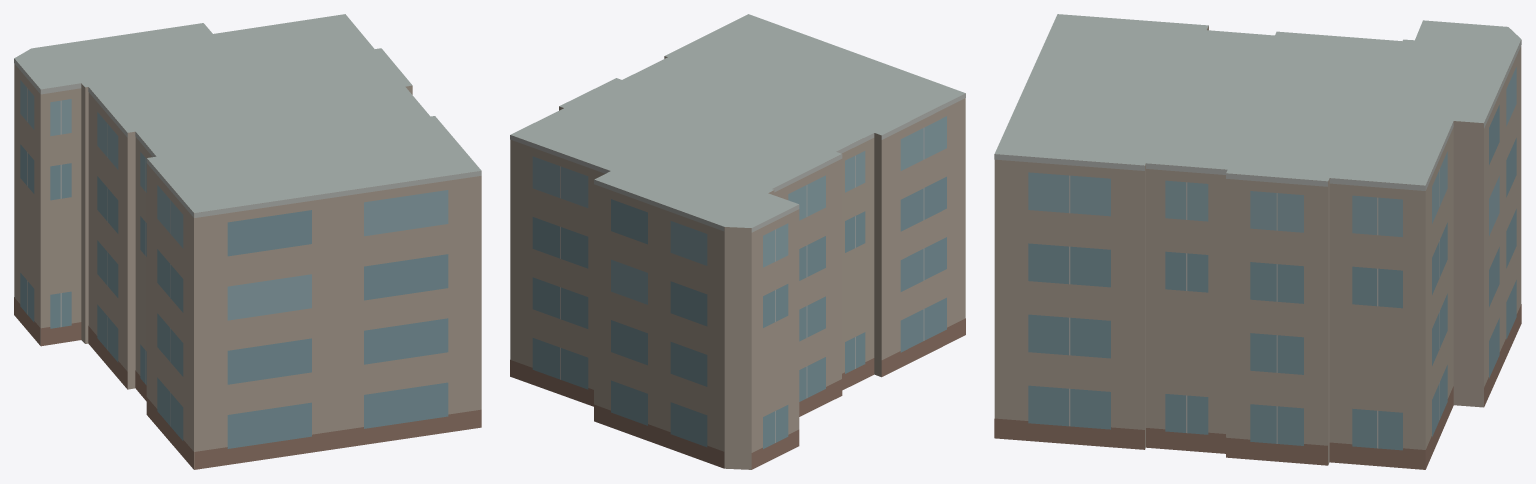
Rendered from survey-upis-32609914.glb.
3 views of the same model, side by side, from view 1: azimuth 30°, elevation 25°; view 2: azimuth 150°, elevation 25°; view 3: azimuth 270°, elevation 25° (orthographic). The views are drawn at different scales.
Parts seen in each view (by area): view 1: survey-upis-32609914.tmp; view 2: survey-upis-32609914.tmp; view 3: survey-upis-32609914.tmp.
Boxes of the visible parts, x1,y1,x2,y2 form: survey-upis-32609914.tmp: [14, 14, 481, 469]; survey-upis-32609914.tmp: [510, 14, 965, 469]; survey-upis-32609914.tmp: [994, 14, 1521, 469].
Size of the model in its own units: 16.19 by 12.5 by 21.01.
